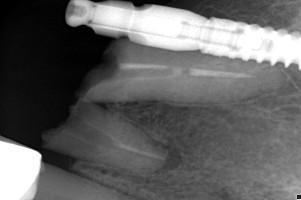Furcation Involvement: (159, 143, 183, 169)
